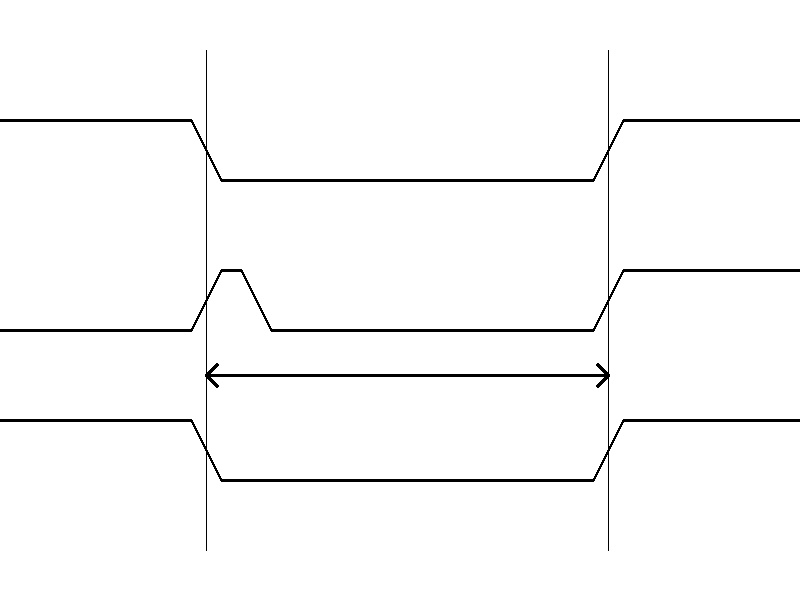double_arrow: (206, 360, 608, 390)
